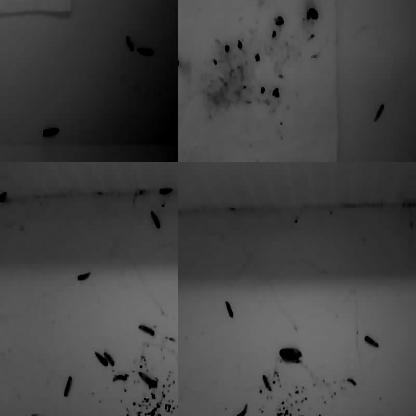PtecticusTenebrifer: (280, 348, 303, 362), (139, 372, 157, 388), (373, 103, 386, 122), (364, 335, 380, 350), (138, 323, 155, 337), (150, 209, 161, 230), (236, 402, 251, 416), (224, 300, 235, 319), (261, 376, 273, 393), (64, 376, 73, 398), (94, 352, 108, 366), (77, 270, 91, 283), (137, 47, 155, 57), (42, 127, 60, 137), (104, 349, 115, 365), (124, 35, 134, 51), (112, 373, 127, 382), (347, 376, 358, 388), (83, 0, 95, 10), (160, 186, 172, 196), (178, 209, 187, 220), (256, 0, 272, 6), (251, 0, 266, 5), (0, 79, 6, 91), (0, 0, 7, 10)
